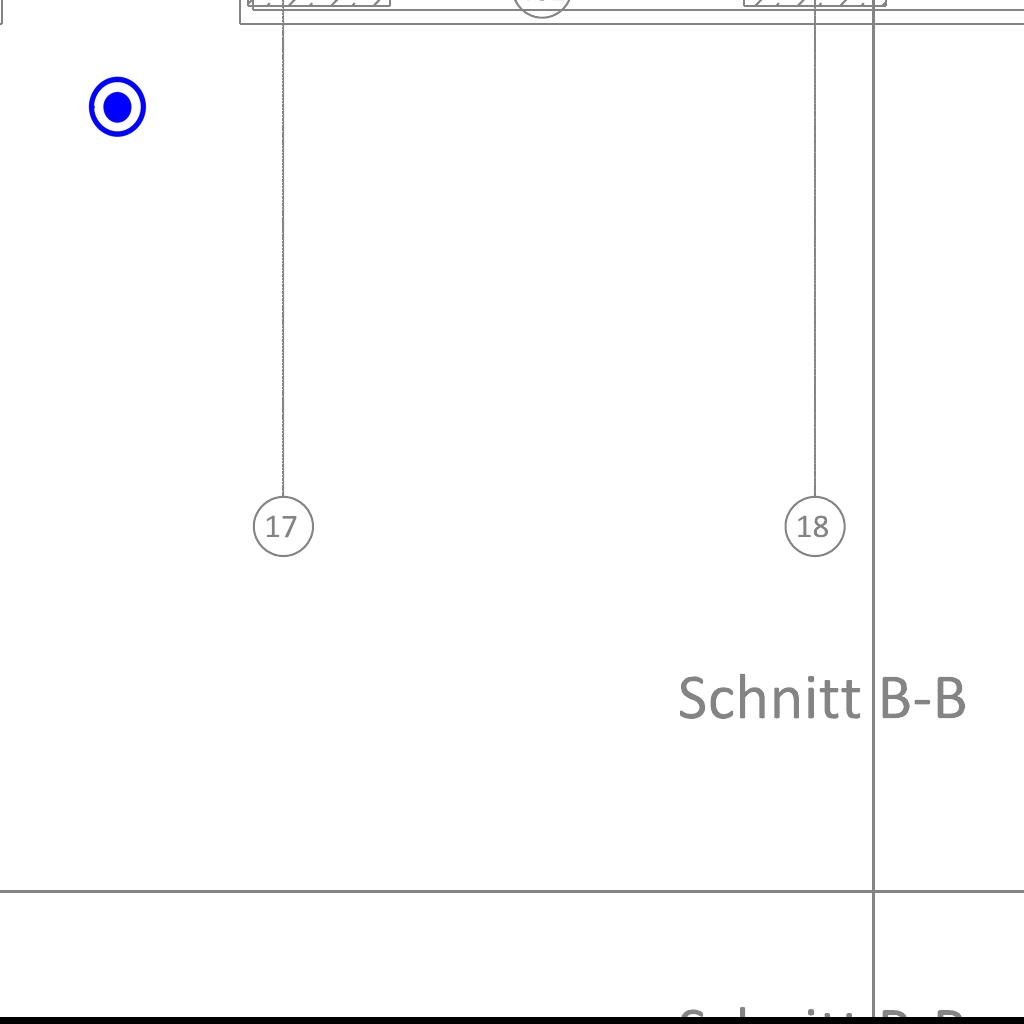Taster: (82, 74, 148, 140)
